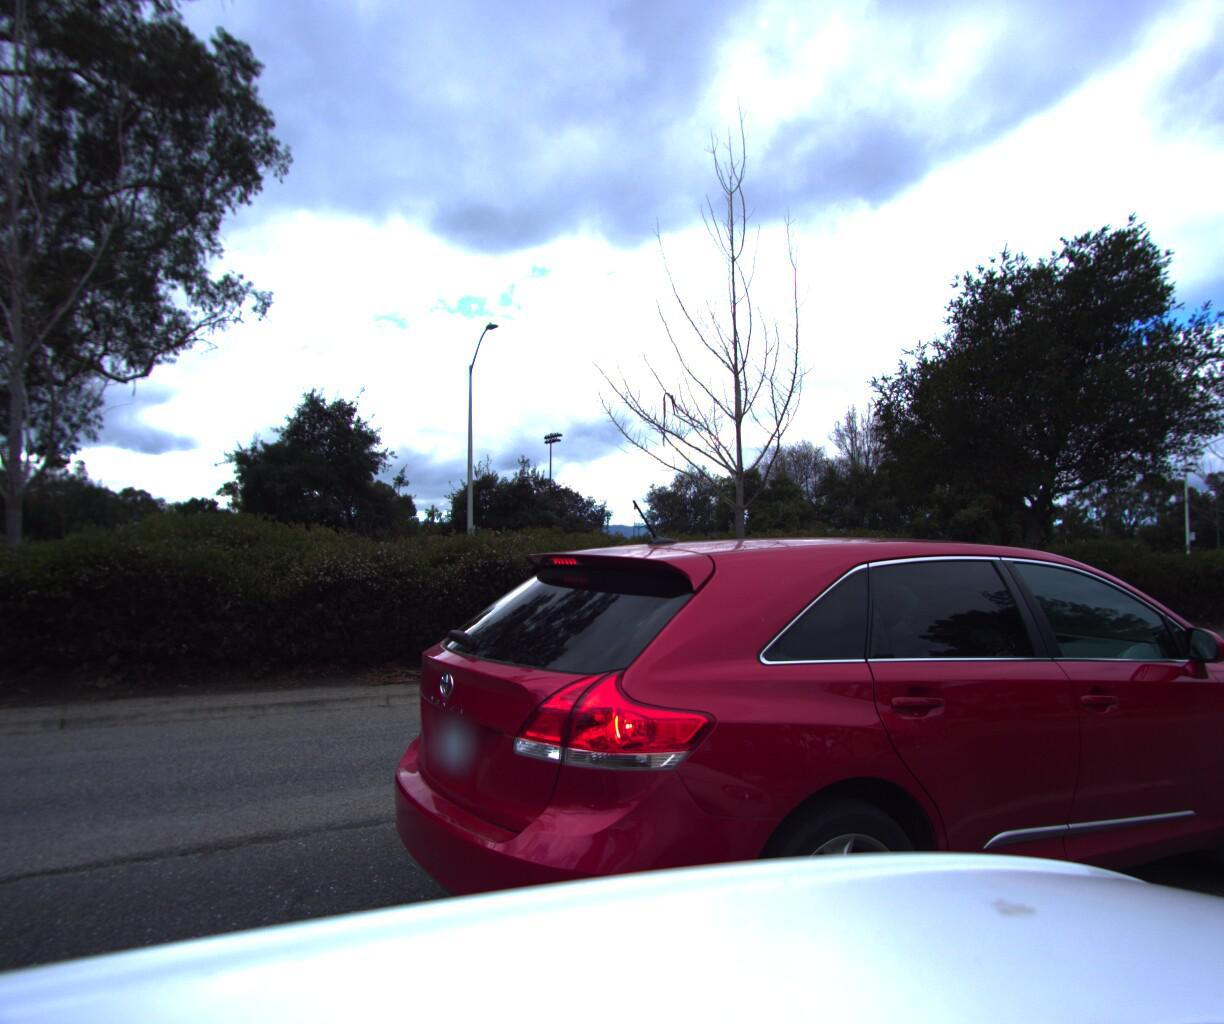car: (355, 503, 1224, 1024)
